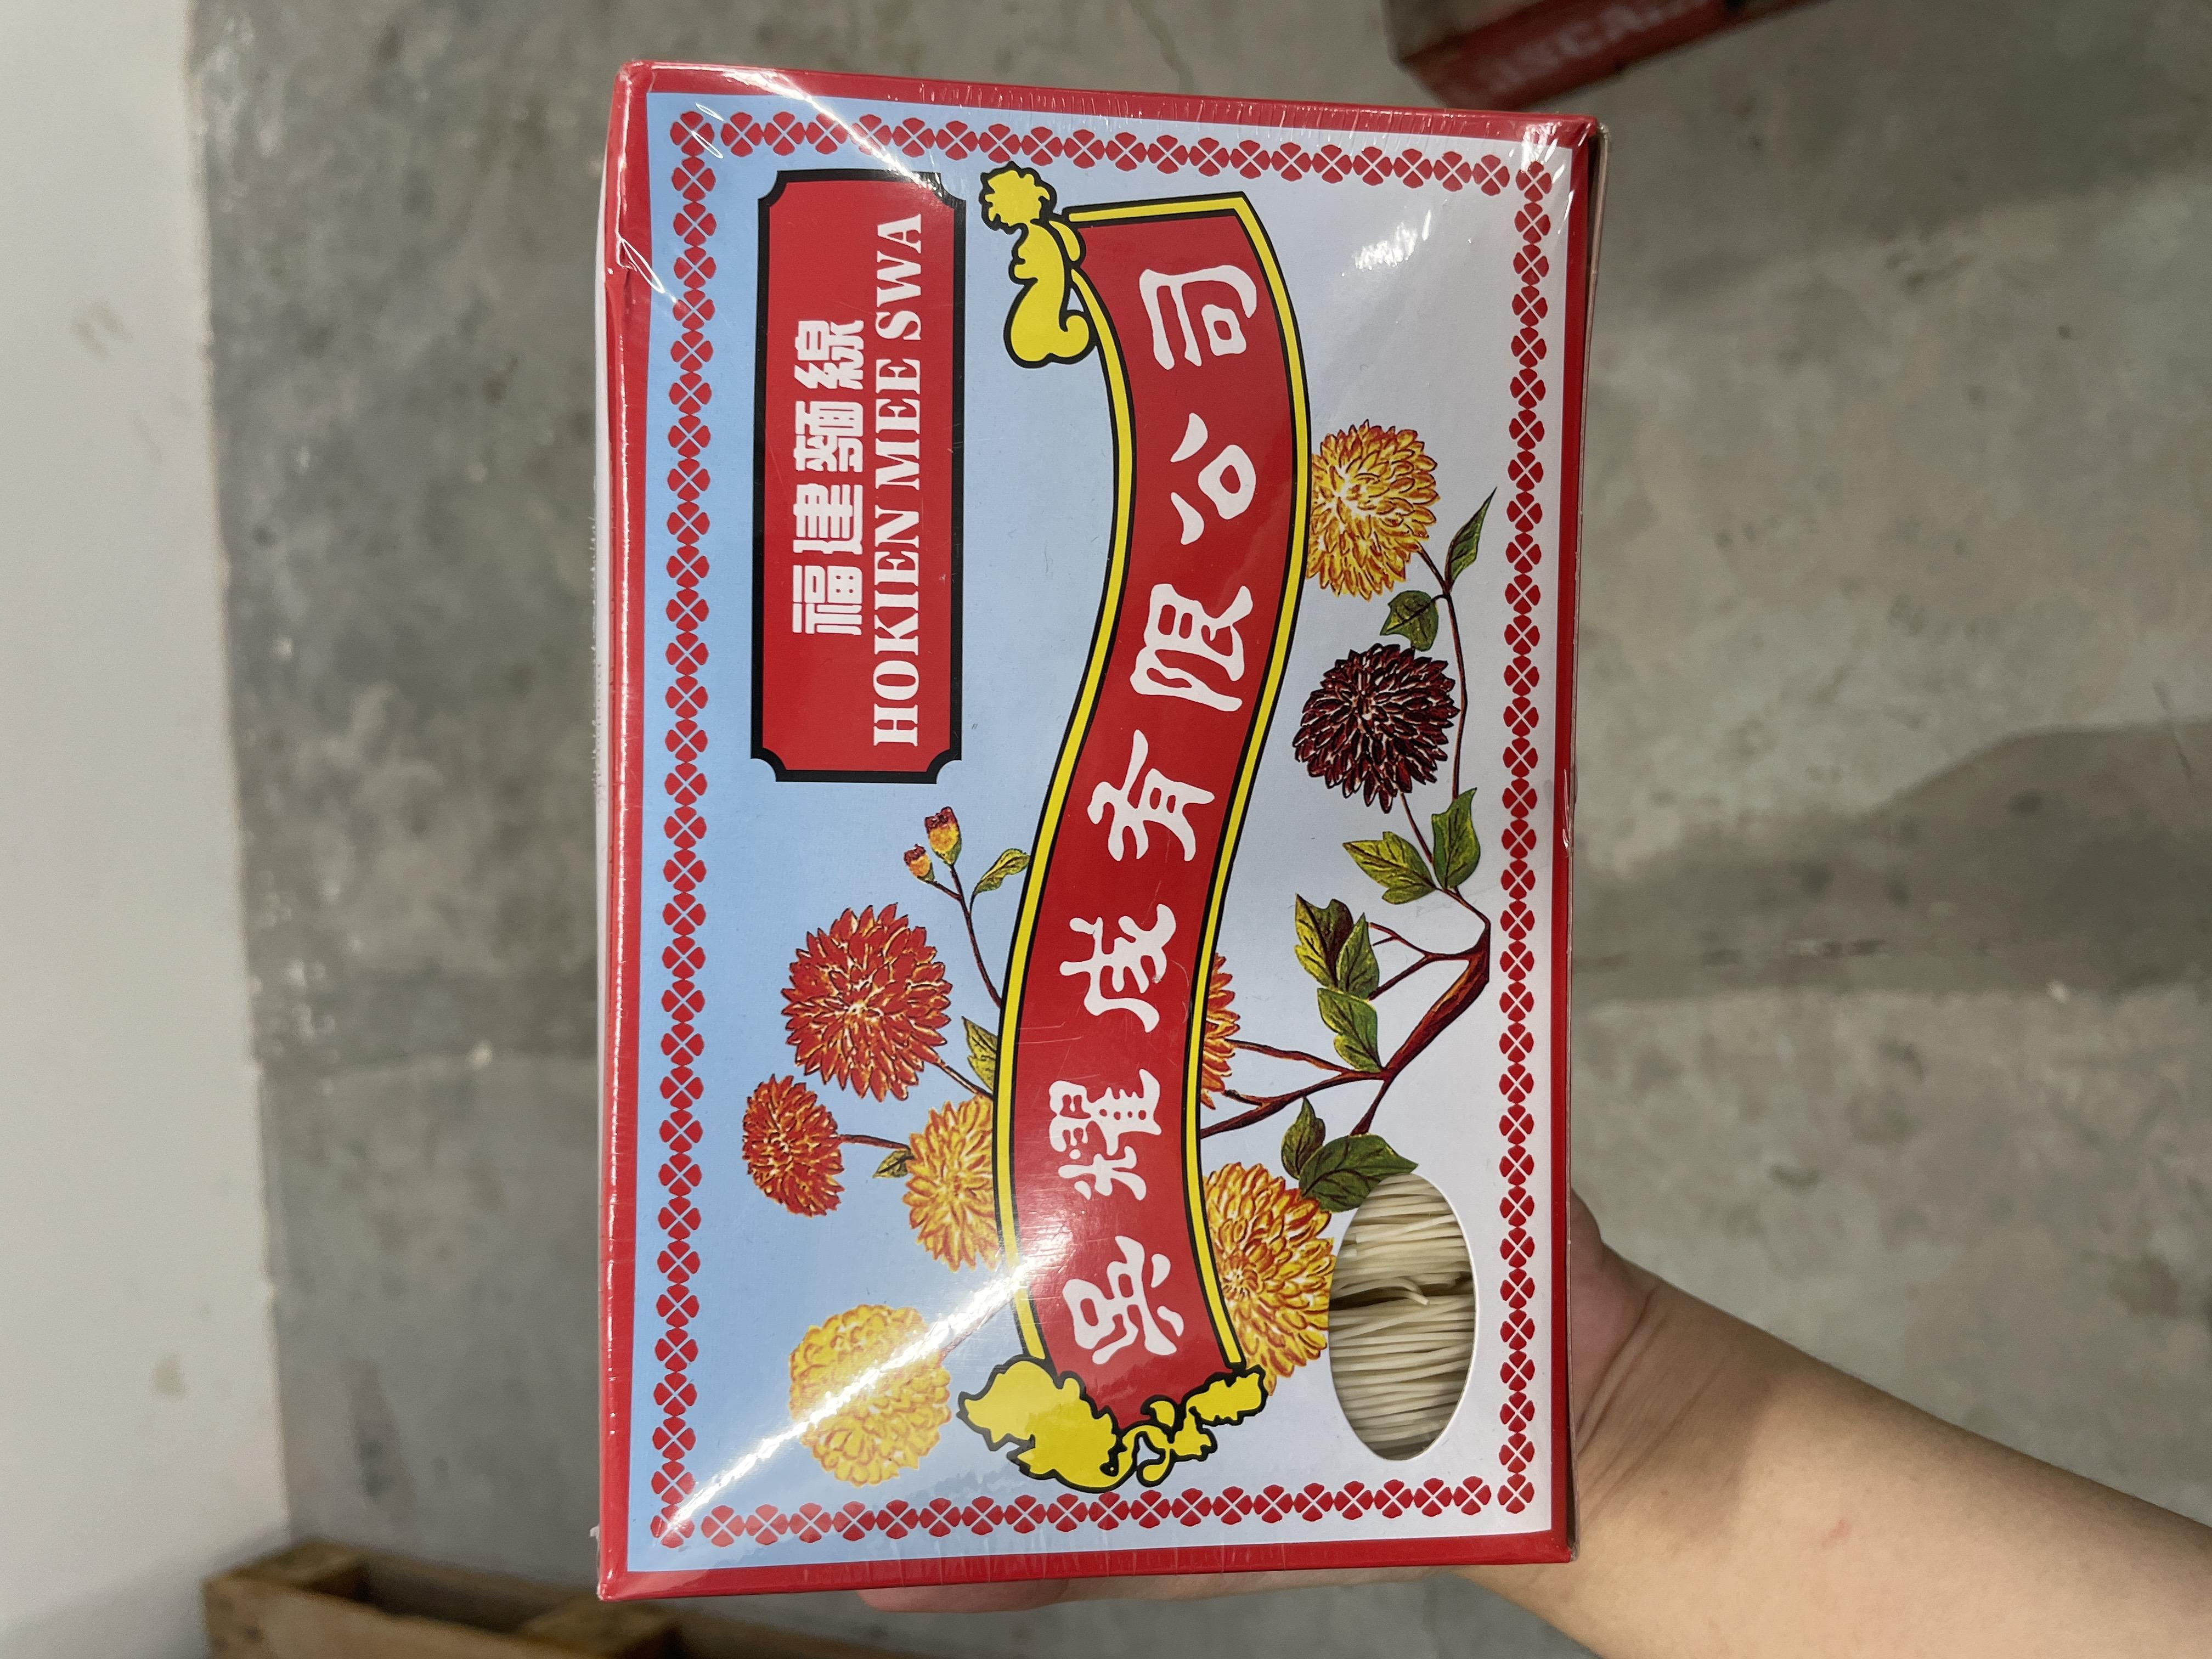object_name: (82, 608, 1547, 1586)
